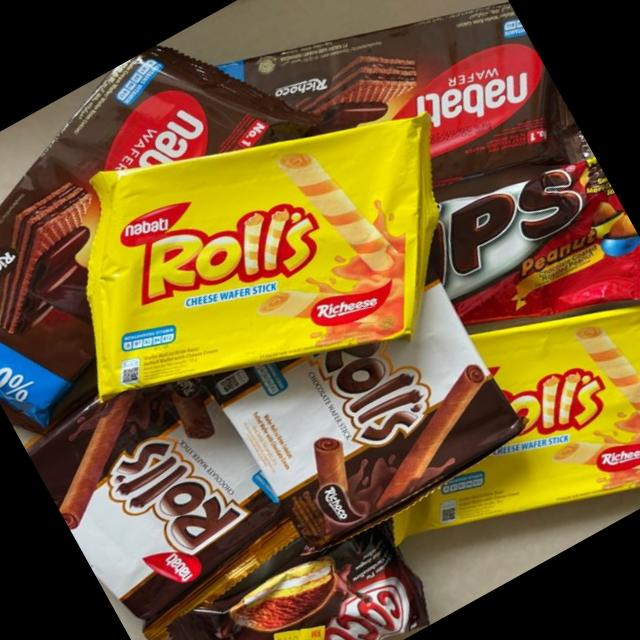KemasanPlastik: (0, 0, 640, 640), (0, 17, 522, 493)
